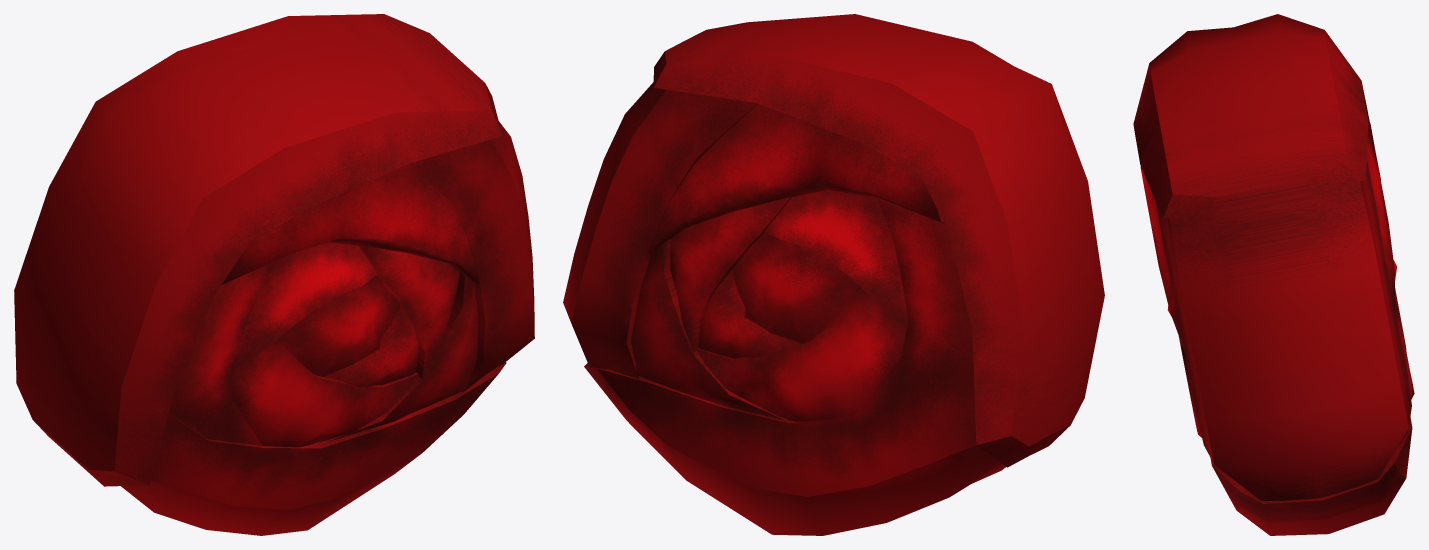
File: BossHead.fbx
3 renders of one model, left to right at view 1: azimuth 30°, elevation 25°; view 2: azimuth 150°, elevation 25°; view 3: azimuth 270°, elevation 25°, orthographic. The views are drawn at different scales.
Parts seen in each view (by area): view 1: polySurface106; view 2: polySurface106; view 3: polySurface106.
Part boxes in pixels (left/top/right/bottom): polySurface106: left=14, top=14, right=534, bottom=535; polySurface106: left=563, top=14, right=1104, bottom=535; polySurface106: left=1133, top=14, right=1414, bottom=535.
Size of the model in its own units: 0.00282 by 0.00499 by 0.00513.
1 material, 1 textured.
